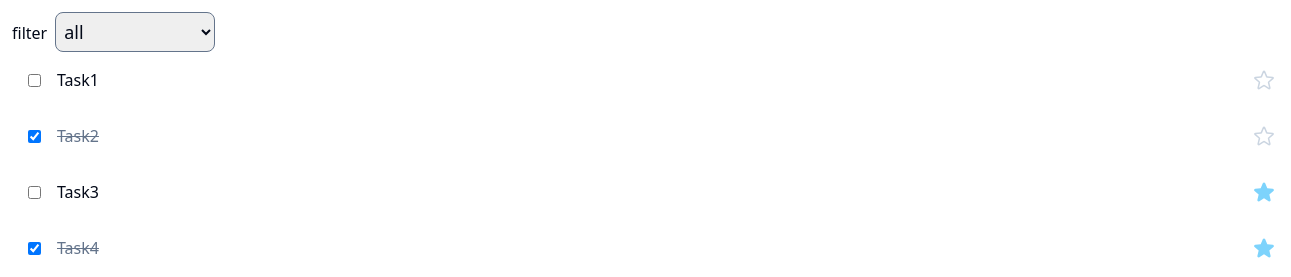
Test case: filter機能 › filterセレクトボックス選択時、タスク一覧が絞り込まれる
The width and height of the screenshot is (1291, 277).
Expected: the number of fields is 4, [57, 68, 1252, 92]; [57, 124, 1252, 148]; [57, 180, 1252, 204]; [57, 236, 1252, 260]
Select "archived" in the dropdown at (135, 32), box [55, 12, 215, 52]
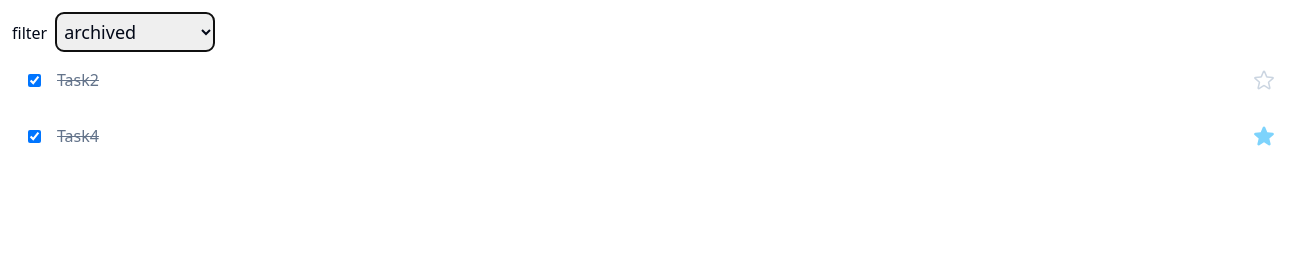
Expected: the number of fields is 2, [57, 68, 1252, 92]; [57, 124, 1252, 148]
